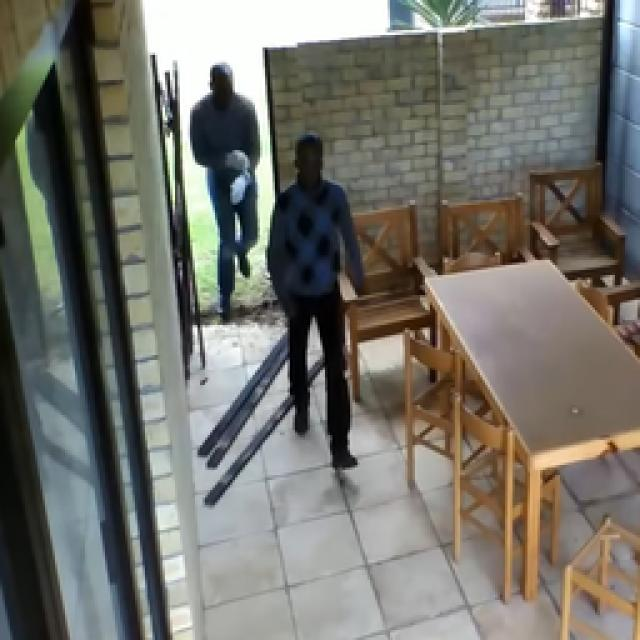person: (268, 130, 360, 468), (190, 62, 255, 315)
